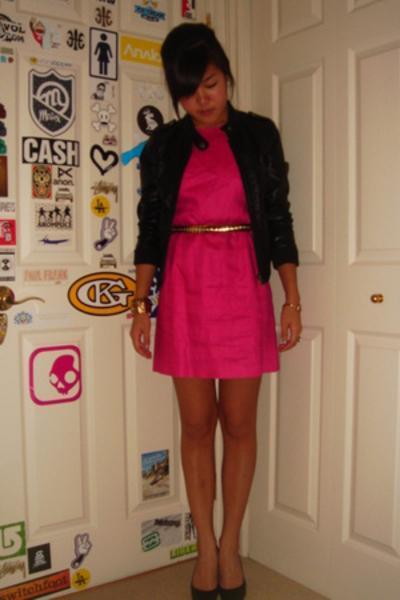dress: (135, 116, 275, 385)
jacket: (134, 100, 298, 283)
shoe: (191, 579, 245, 599)
